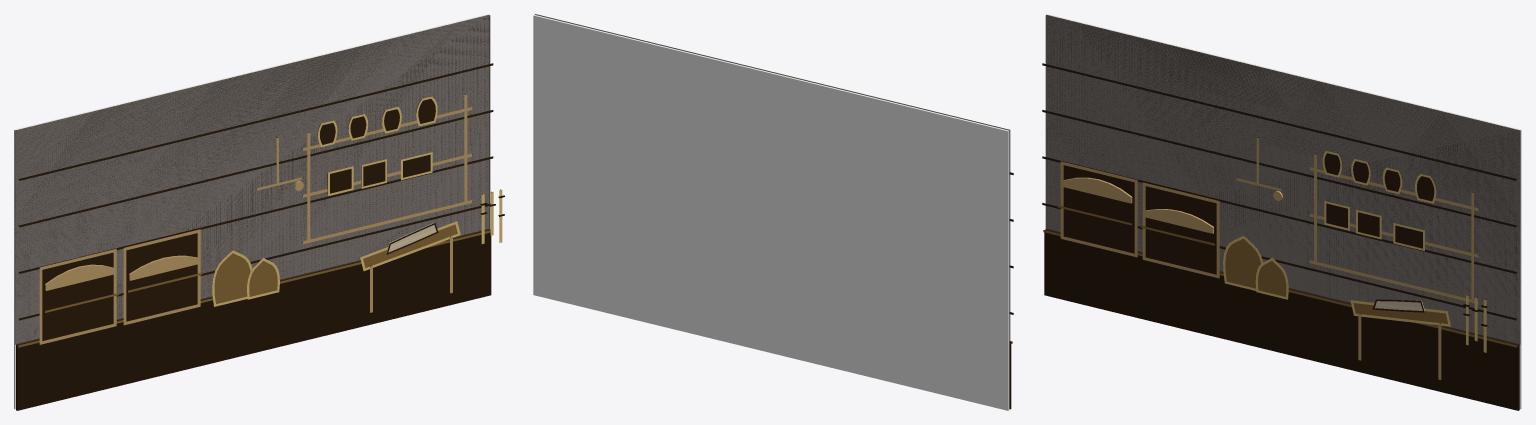
The model's file is loc-sklad-obiteli.glb.
The picture shows the model from 3 angles, left to right: view 1: azimuth 30°, elevation 25°; view 2: azimuth 150°, elevation 25°; view 3: azimuth 330°, elevation 25°; orthographic projection.
Visible parts, largest first — view 1: loc-sklad-obiteli; view 2: loc-sklad-obiteli; view 3: loc-sklad-obiteli.
Boxes of the visible parts, bbox=[...] form: loc-sklad-obiteli: bbox=[14, 14, 504, 410]; loc-sklad-obiteli: bbox=[533, 14, 1013, 410]; loc-sklad-obiteli: bbox=[1042, 14, 1521, 410].
Size of the model in its own units: 5.33 by 3 by 0.54.
